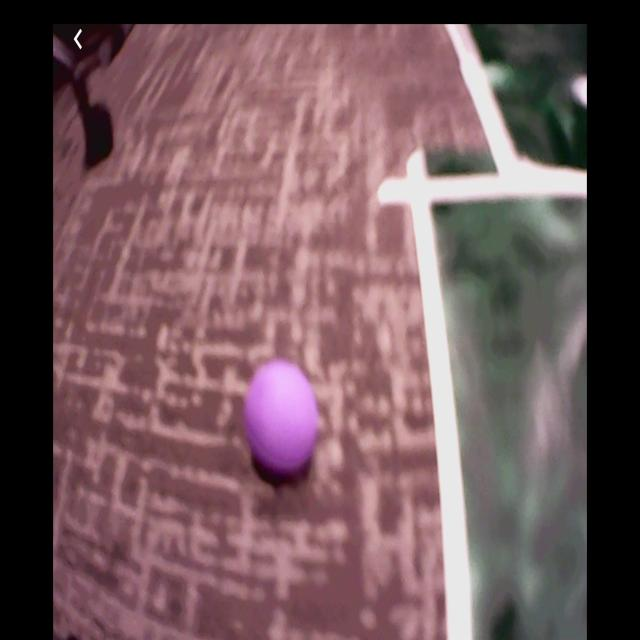ball: (243, 357, 320, 482)
